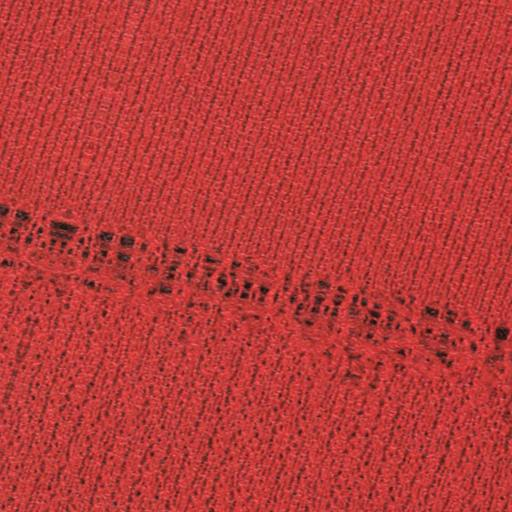slub: (1, 191, 509, 390)
